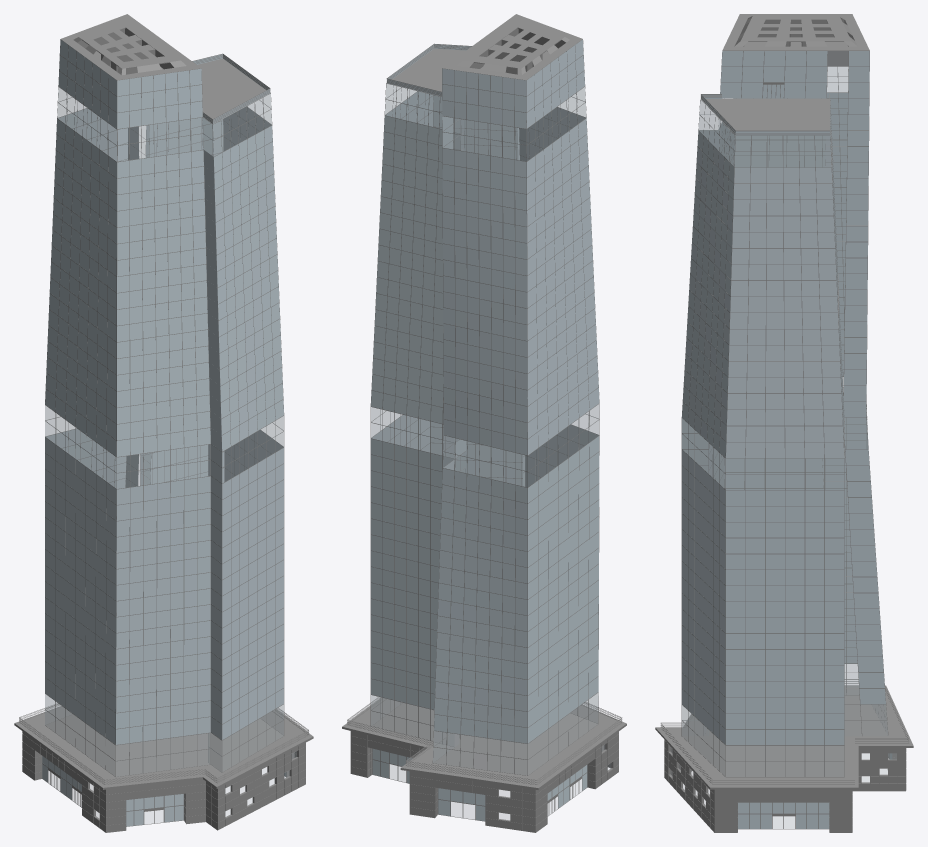
Rendered from skyscraper07-original.glb.
3 views of the same model, side by side, from view 1: azimuth 30°, elevation 25°; view 2: azimuth 150°, elevation 25°; view 3: azimuth 270°, elevation 25° (orthographic).
Visible parts, largest first — view 1: 01_Skyscraper07; view 2: 01_Skyscraper07; view 3: 01_Skyscraper07.
Part boxes in pixels (x1,y1,x2,y2): 01_Skyscraper07: (14,14,313,832); 01_Skyscraper07: (342,14,626,832); 01_Skyscraper07: (655,14,913,832).
Bounding box in the file's own units: 55 × 185 × 58.75.
